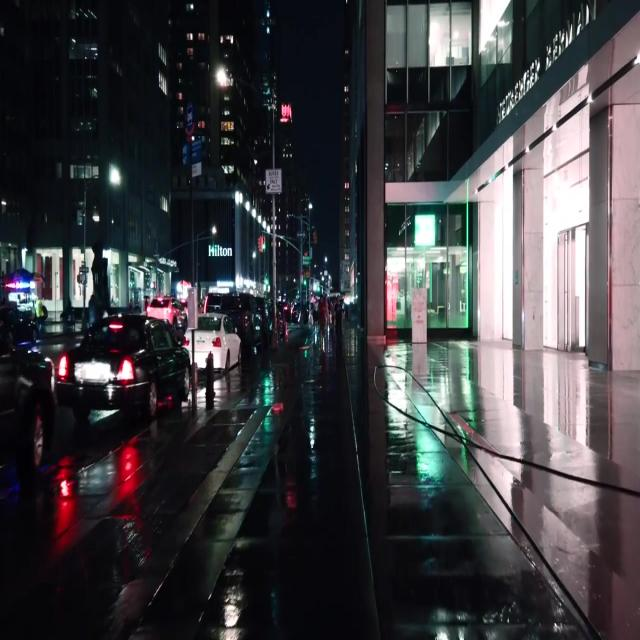Car: (49, 312, 189, 422), (3, 329, 46, 481), (187, 312, 239, 368)
